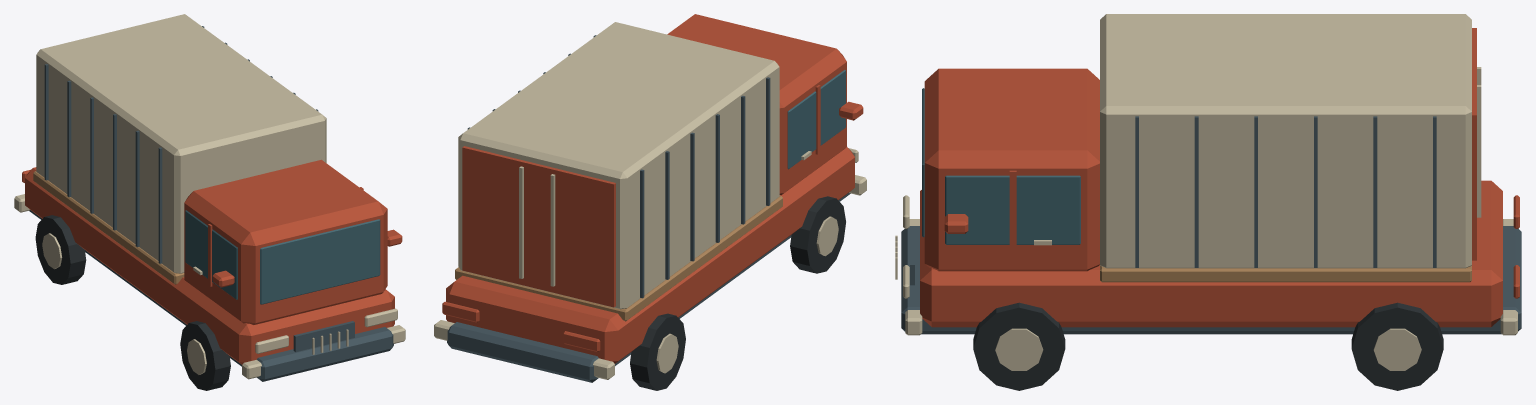
File: vehicle_delivery.glb
The picture shows the model from 3 angles, left to right: view 1: azimuth 30°, elevation 25°; view 2: azimuth 150°, elevation 25°; view 3: azimuth 270°, elevation 25°; orthographic projection. The views are drawn at different scales.
Parts seen in each view (by area): view 1: vehicle_delivery; view 2: vehicle_delivery; view 3: vehicle_delivery.
Boxes of the visible parts, <box> form: vehicle_delivery: <box>14,14,405,390</box>; vehicle_delivery: <box>434,14,866,390</box>; vehicle_delivery: <box>895,14,1521,390</box>.
Size of the model in its own units: 2.59 by 2.85 by 5.86.
